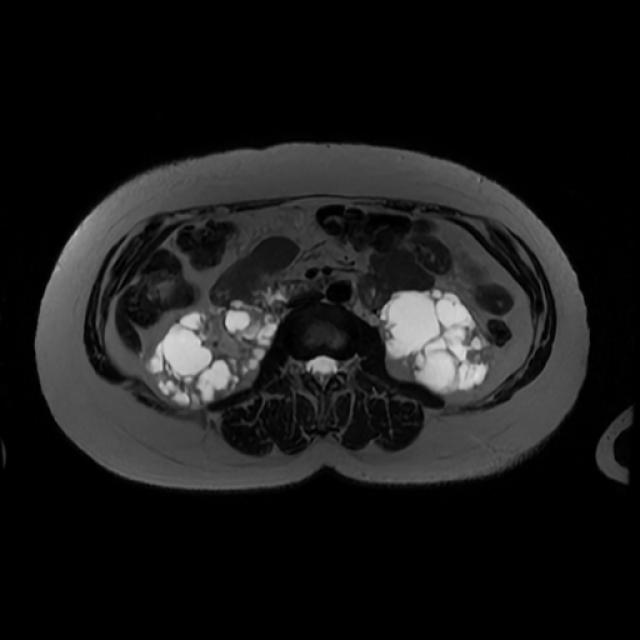sag: (147, 300, 283, 410)
sol: (378, 289, 495, 396)
